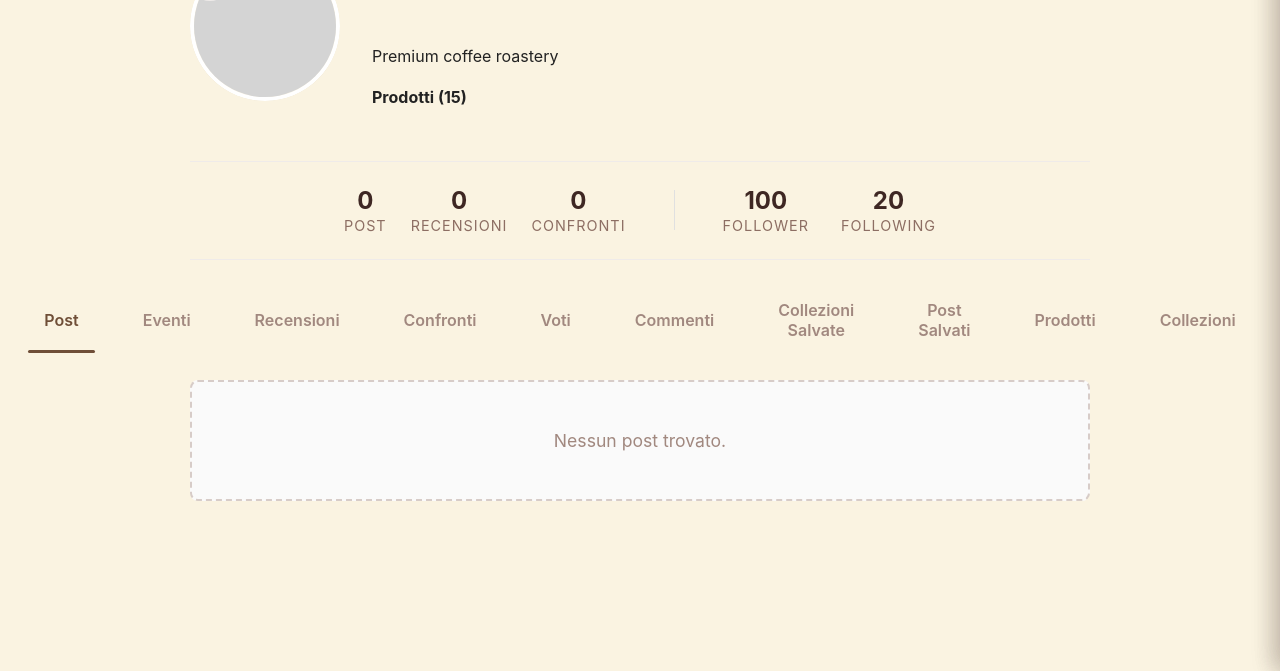
Test: Profile Page › Collection Management (Torrefazione) › deletes collection with confirmation
Click the button "Collezioni".
click(1198, 320)  # box [1144,292,1252,348]
(page scrolled)
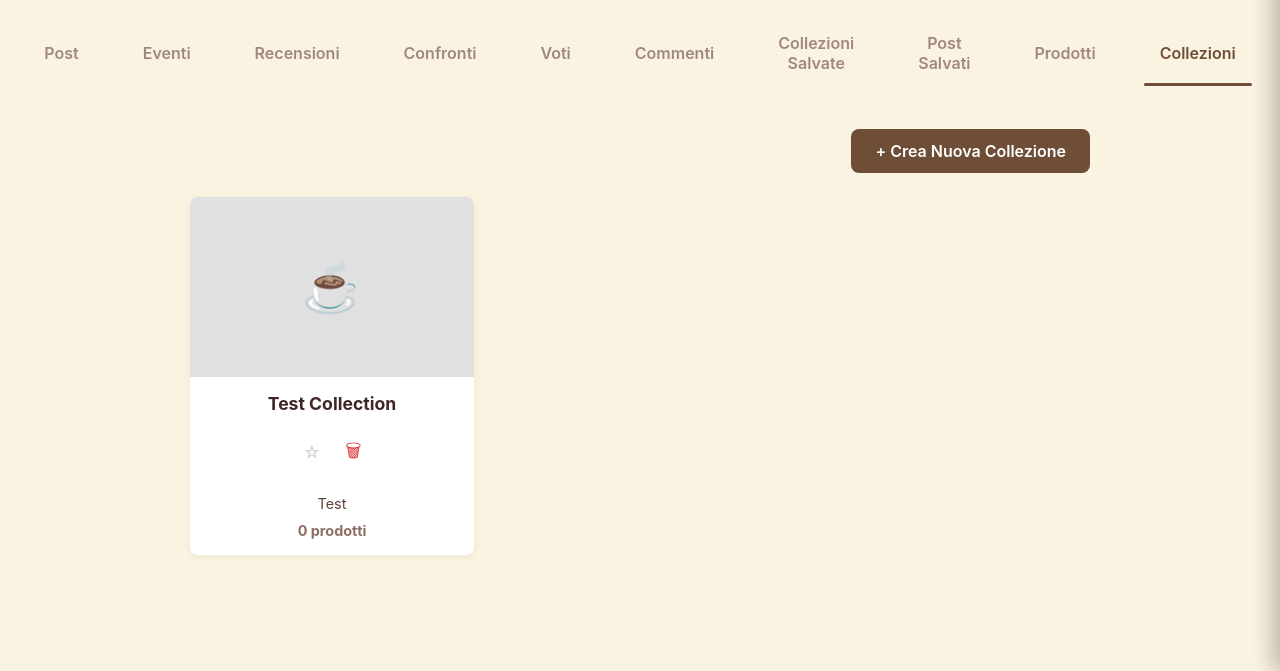
expect the heading "Test Collection" is shown: met, box [268,392,396,414]
